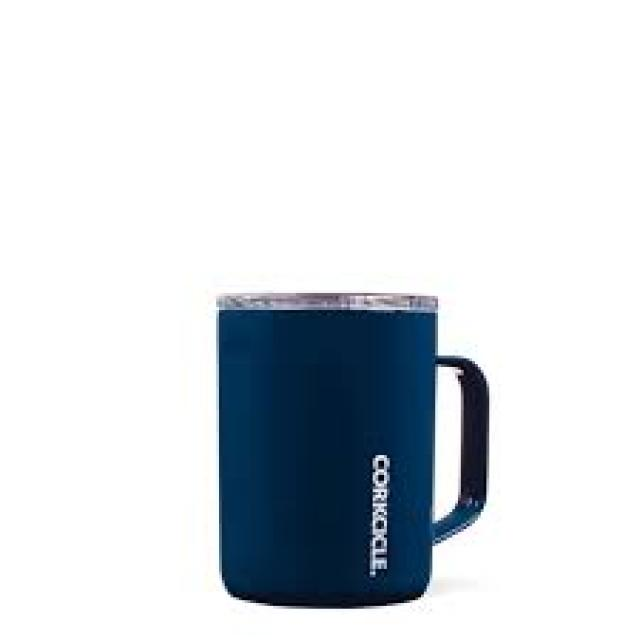bottle: (216, 293, 486, 608)
